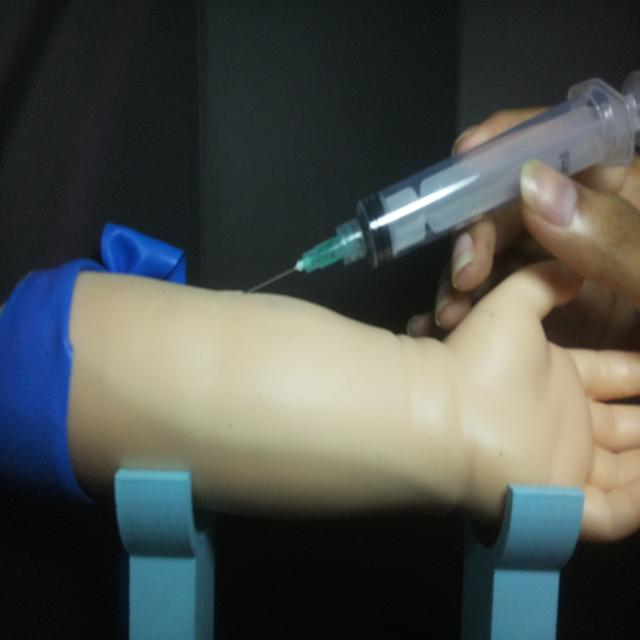17deg: (240, 68, 638, 297)
